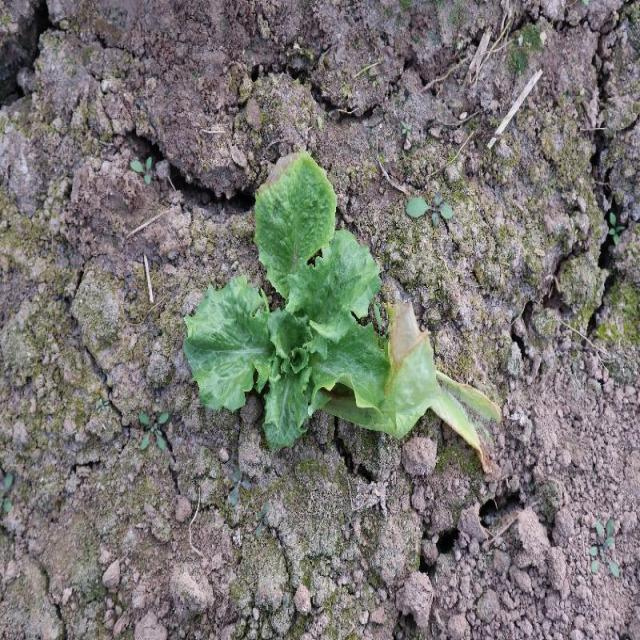crop: (186, 156, 393, 452)
